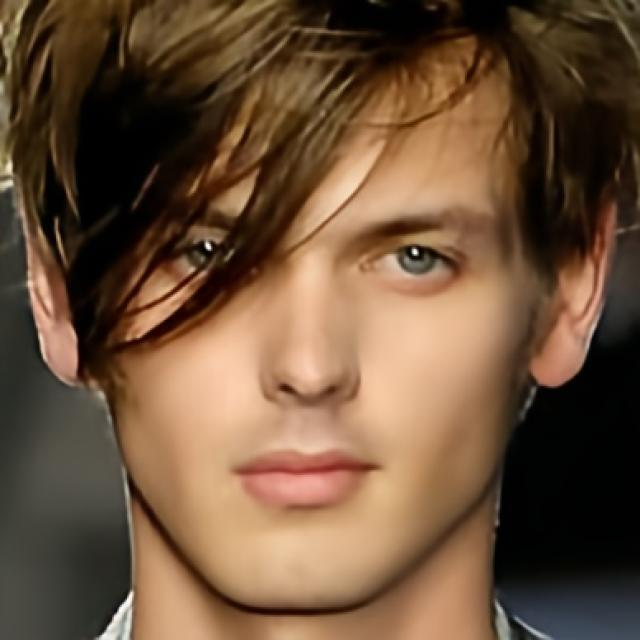neutral: (112, 56, 535, 602)
